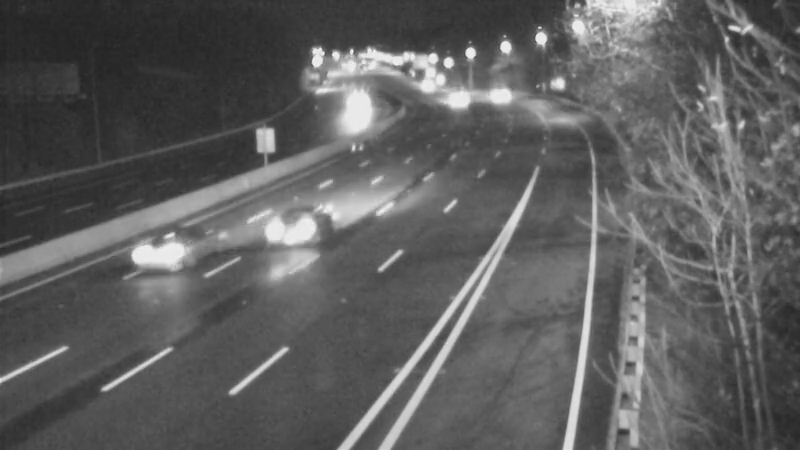vehicle: (253, 189, 333, 269), (128, 207, 208, 287), (399, 58, 449, 108), (467, 71, 517, 121), (430, 71, 480, 121), (331, 79, 381, 129)
